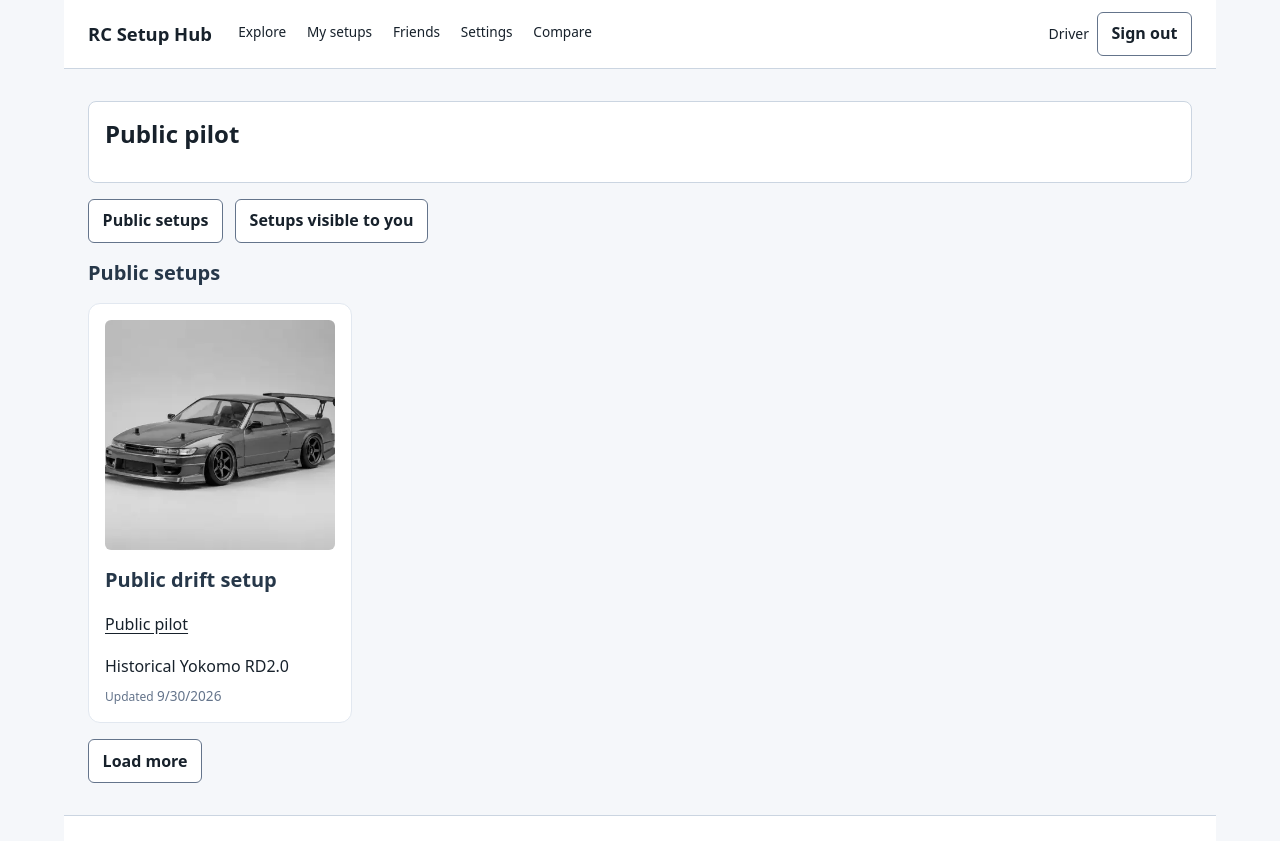
safe public profile defaults to paginated public-only endpoint, signed-in=true
Expected: the heading "Public pilot" is shown, [105,118,239,150]
Expected: the link "Public drift setup" is shown, [105,566,277,593]
Click the button "Load more" at (145, 761), box [88,739,202,783]
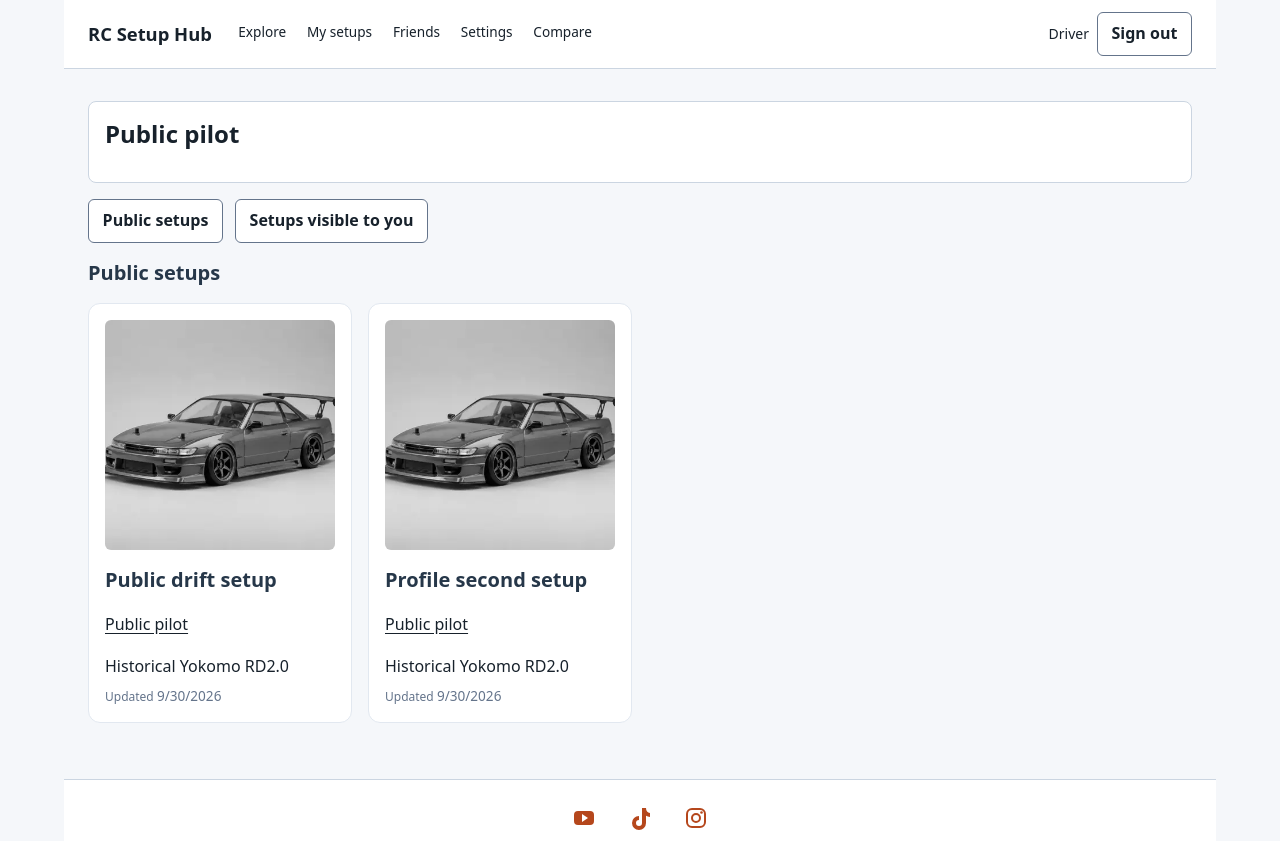
Result: the link "Profile second setup" is shown at [385,566,587,593]
Click the button "Setups visible to you" at (332, 221), box [235,199,428,243]
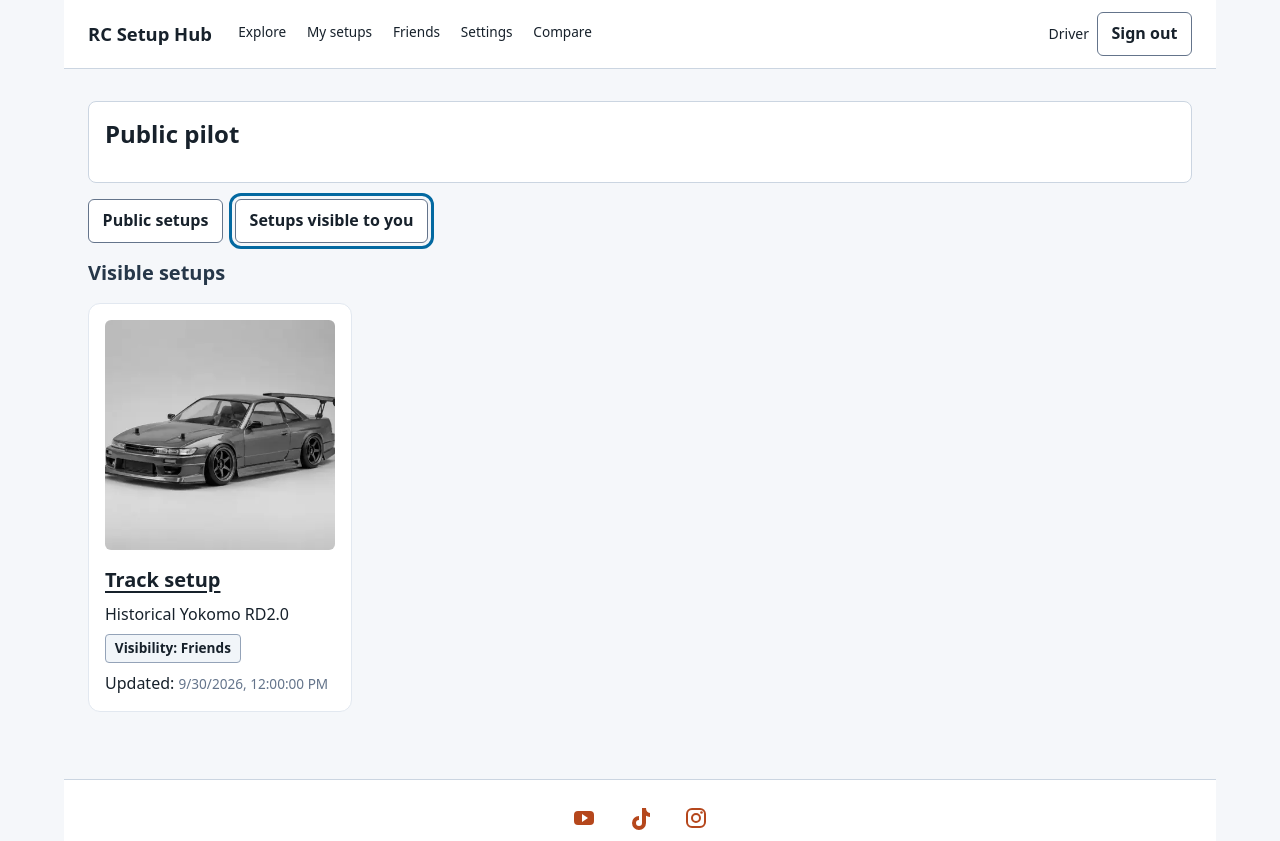
Result: the heading "Visible setups" is shown at [88,259,225,286]
Result: the link "Track setup" is shown at [105,566,220,593]
